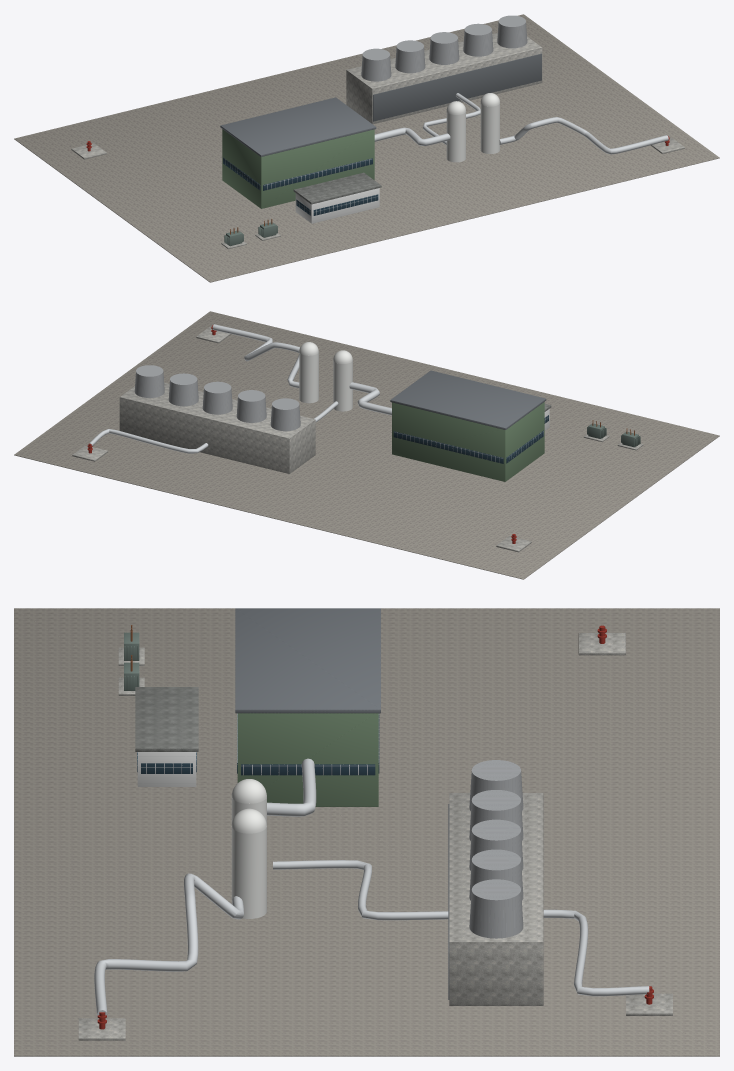
File: geothermal-power-plant.glb
3 views of the same model, one above another, from view 1: azimuth 30°, elevation 25°; view 2: azimuth 150°, elevation 25°; view 3: azimuth 270°, elevation 25° (orthographic). The views are drawn at different scales.
Visible parts, largest first — view 1: Geothermal_Power_Plant; view 2: Geothermal_Power_Plant; view 3: Geothermal_Power_Plant.
Boxes of the visible parts, box(x1,y1,x2,y2) form: Geothermal_Power_Plant: box(14, 14, 719, 282); Geothermal_Power_Plant: box(14, 311, 719, 579); Geothermal_Power_Plant: box(14, 608, 719, 1056).
Size of the model in its own units: 180 by 19.2 by 120.
15 materials, 9 textured.
